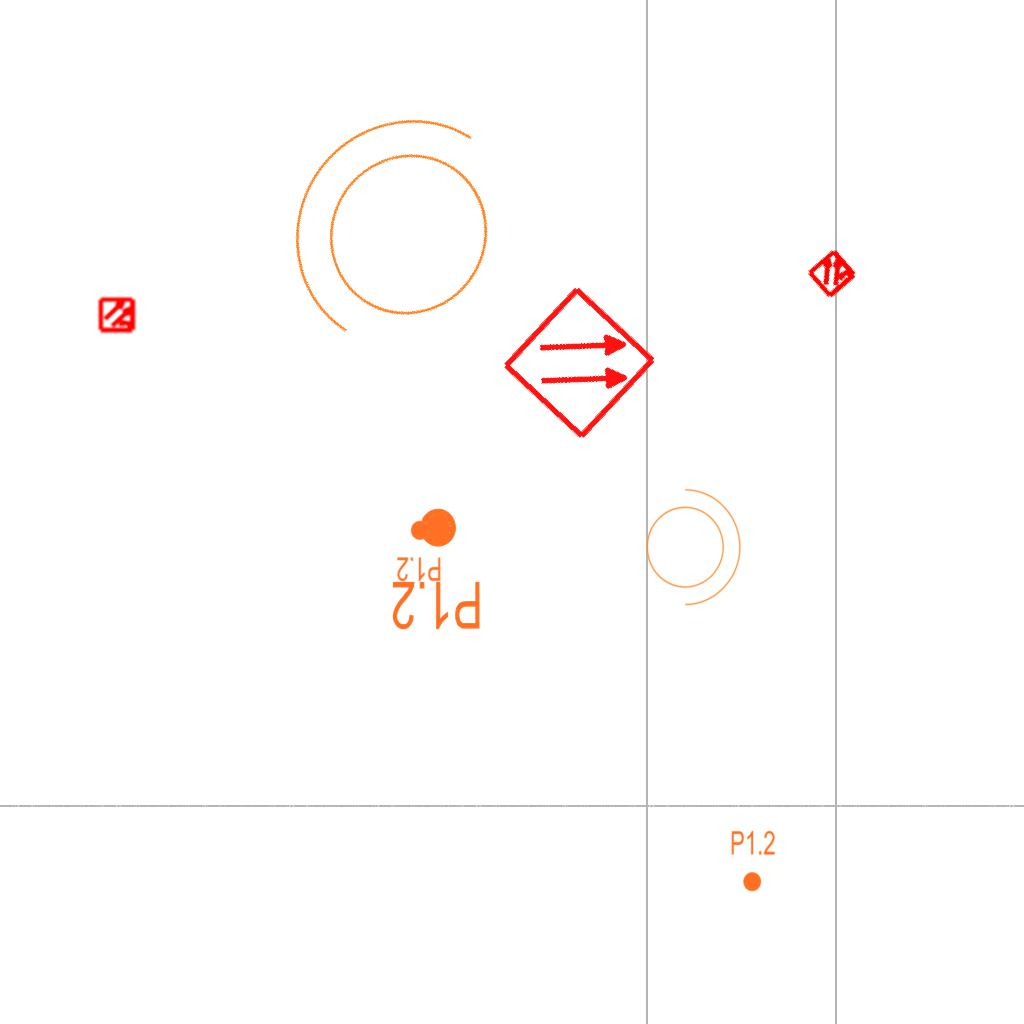Downlight_LED_Einbauleuchten_Flur: (390, 505, 483, 633), (730, 829, 776, 893), (396, 519, 442, 583)
OT_Multisensormelder_(Kombination_RMO_WMD): (793, 233, 873, 313), (90, 287, 146, 343)
RMO_Rauchmelder_optischer: (499, 282, 660, 443)
Scheinwerfer_fuer_Alarmbeleuchtung: (230, 62, 564, 407), (634, 478, 746, 610)
